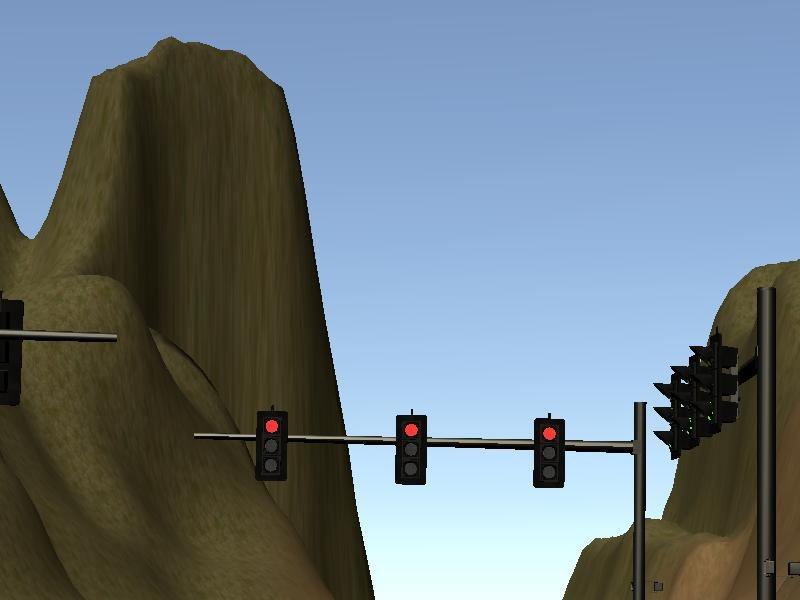red: (527, 410, 571, 493), (251, 406, 293, 486), (392, 408, 433, 489)
